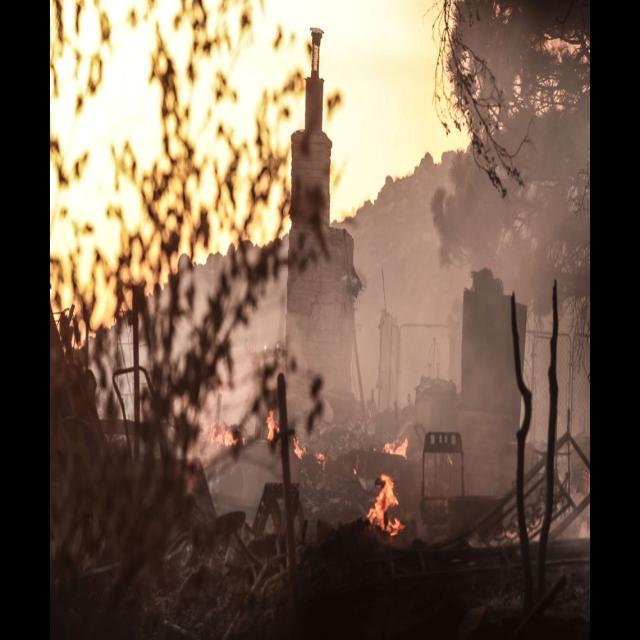Fire: (364, 422, 412, 542), (202, 414, 253, 460), (292, 432, 330, 473), (261, 408, 283, 454)
